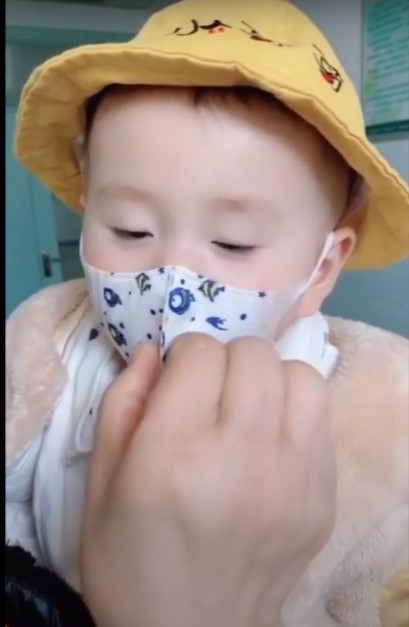face_with_mask: (13, 2, 409, 384)
